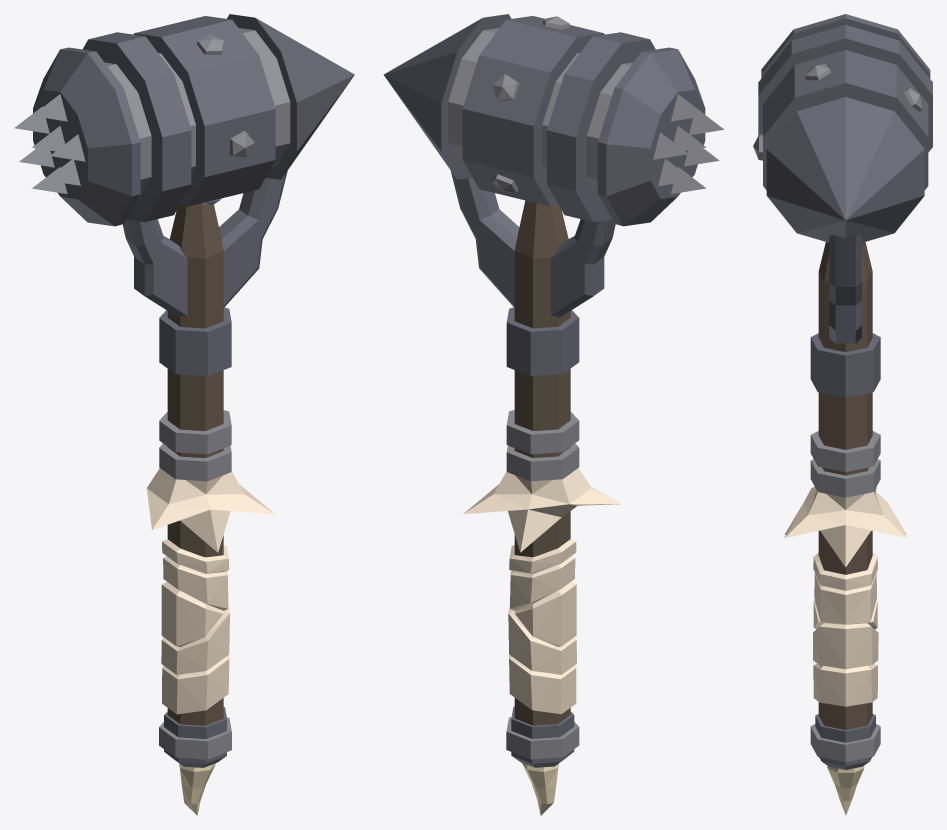
Rendered from _HAMMER_2.fbx.
3 views of the same model, side by side, from view 1: azimuth 30°, elevation 25°; view 2: azimuth 150°, elevation 25°; view 3: azimuth 270°, elevation 25° (orthographic). The views are drawn at different scales.
Visible parts, largest first — view 1: HAMMER_2; view 2: HAMMER_2; view 3: HAMMER_2.
Part boxes in pixels (bbox=[...]): HAMMER_2: bbox=[14, 14, 354, 815]; HAMMER_2: bbox=[383, 14, 723, 815]; HAMMER_2: bbox=[753, 14, 932, 815].
Bounding box in the file's own units: 73.48 × 172 × 37.23.
